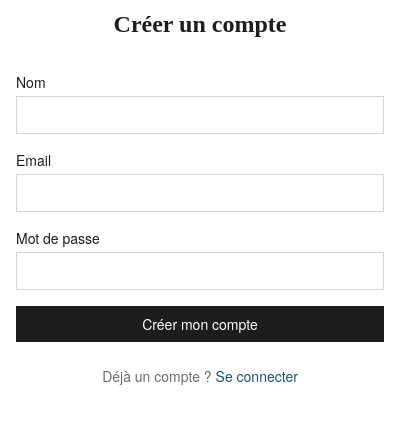
it: SignUpPage — erreur de validation (400) › affiche le message d'erreur retourné par l'API
In the field labelled "Nom": (200, 115) [16,96,384,134], type "A"
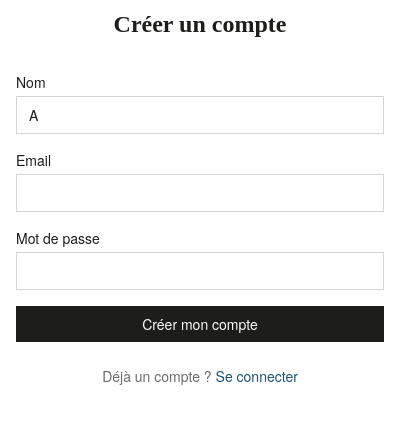
In the field labelled "Email": (200, 193) [16,174,384,212], type "alice@example.com"
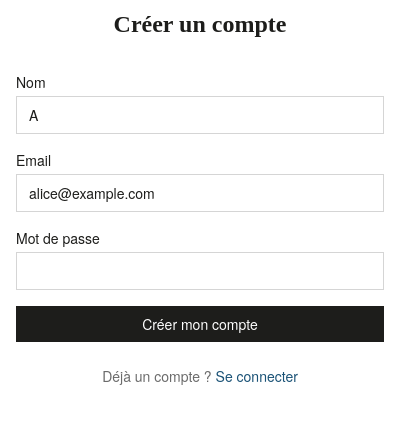
In the password field labelled "Mot de passe": (200, 271) [16,252,384,290], type "secret123"
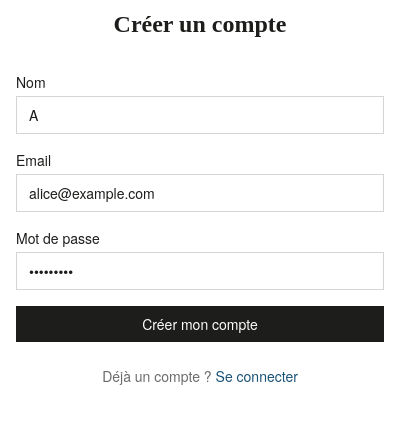
Click the button "Créer mon compte": click(200, 324) [16,306,384,342]
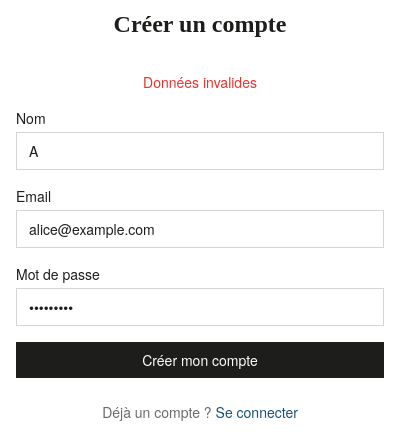
Now the text "Données invalides" is shown, box [143,72,257,92]
